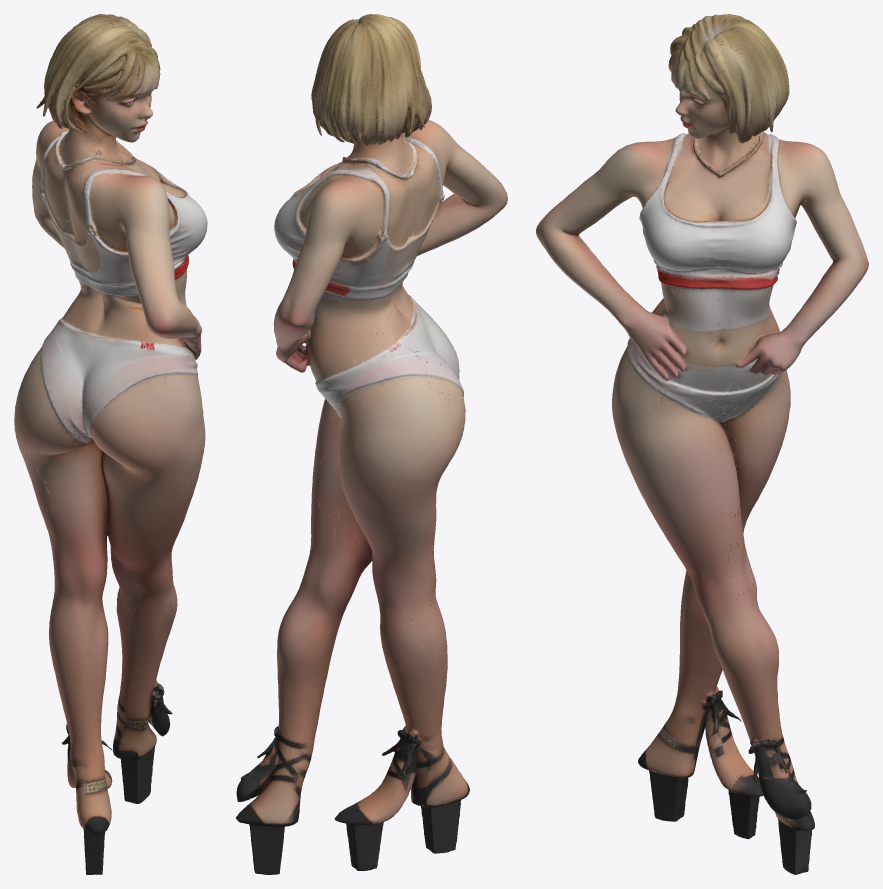
The model's file is hips.glb.
3 renders of one model, left to right at view 1: azimuth 30°, elevation 25°; view 2: azimuth 150°, elevation 25°; view 3: azimuth 270°, elevation 25°, orthographic. The views are drawn at different scales.
Parts seen in each view (by area): view 1: Mesh_0_Material.001_0 (×3); view 2: Mesh_0_Material.001_0 (×3); view 3: Mesh_0_Material.001_0 (×3).
Part boxes in pixels (left/top/right/bottom): Mesh_0_Material.001_0 (×3): left=14, top=14, right=207, bottom=874; Mesh_0_Material.001_0 (×3): left=236, top=14, right=507, bottom=874; Mesh_0_Material.001_0 (×3): left=536, top=14, right=868, bottom=874.
Size of the model in its own units: 0.4483 by 2 by 0.7353.
1 material, 1 textured.
